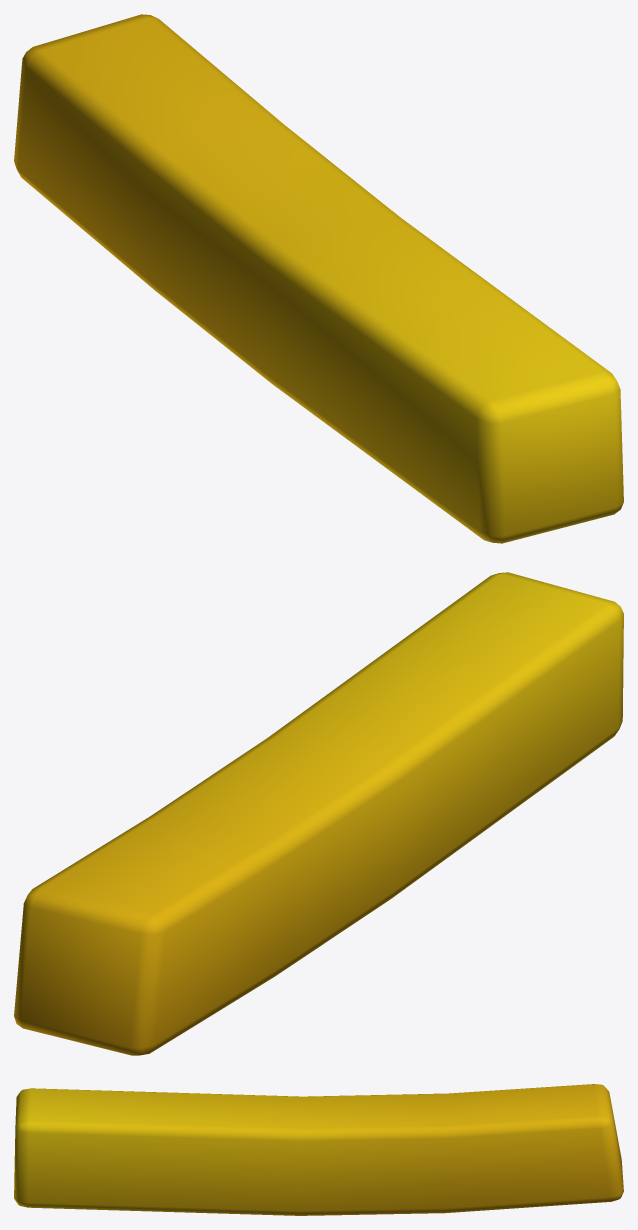
Rendered from Fry.2.fbx.
The picture shows the model from 3 angles, top to bottom: view 1: azimuth 30°, elevation 25°; view 2: azimuth 150°, elevation 25°; view 3: azimuth 270°, elevation 25°; orthographic projection. The views are drawn at different scales.
Visible parts, largest first — view 1: Fry.2; view 2: Fry.2; view 3: Fry.2.
Part boxes in pixels (box(x1,y1,x2,y2)): Fry.2: box(14, 14, 623, 543); Fry.2: box(14, 572, 623, 1055); Fry.2: box(14, 1084, 623, 1215).
Size of the model in its own units: 1.37 by 1.4 by 7.67.
Materials: 1 (1 with a texture image).
